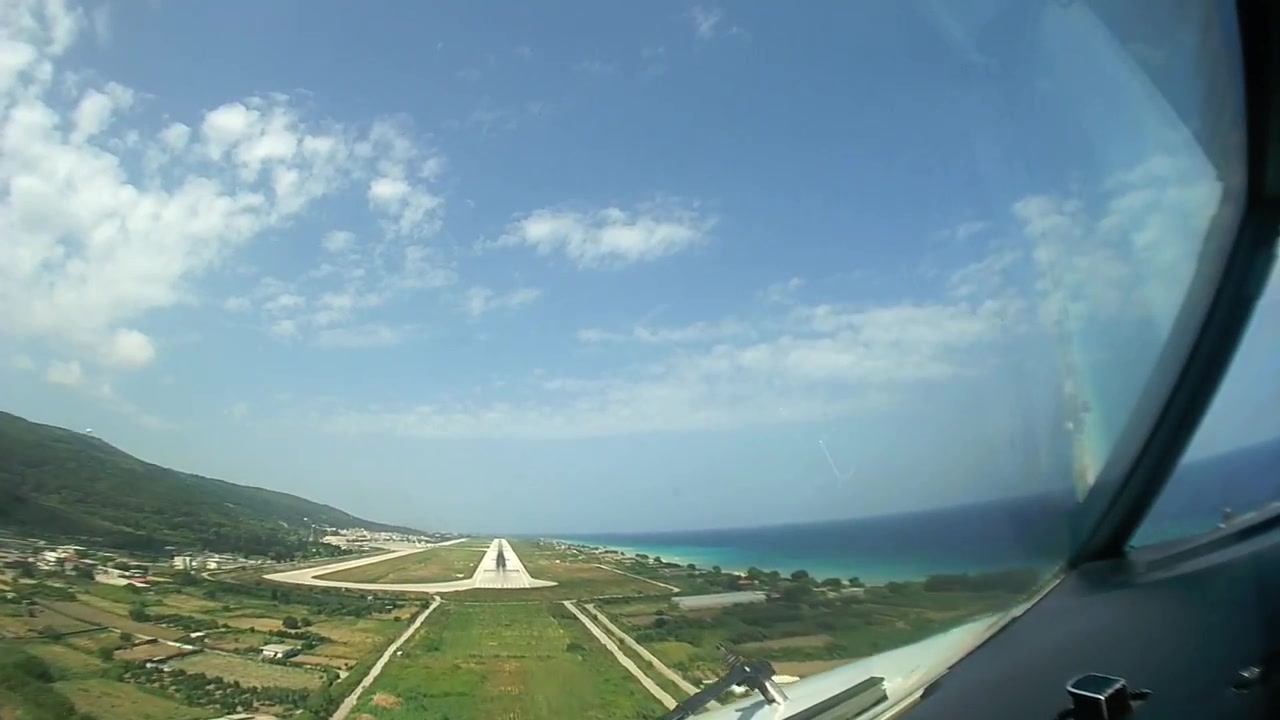entrance: (476, 581, 527, 590)
runway: (469, 538, 533, 591)
